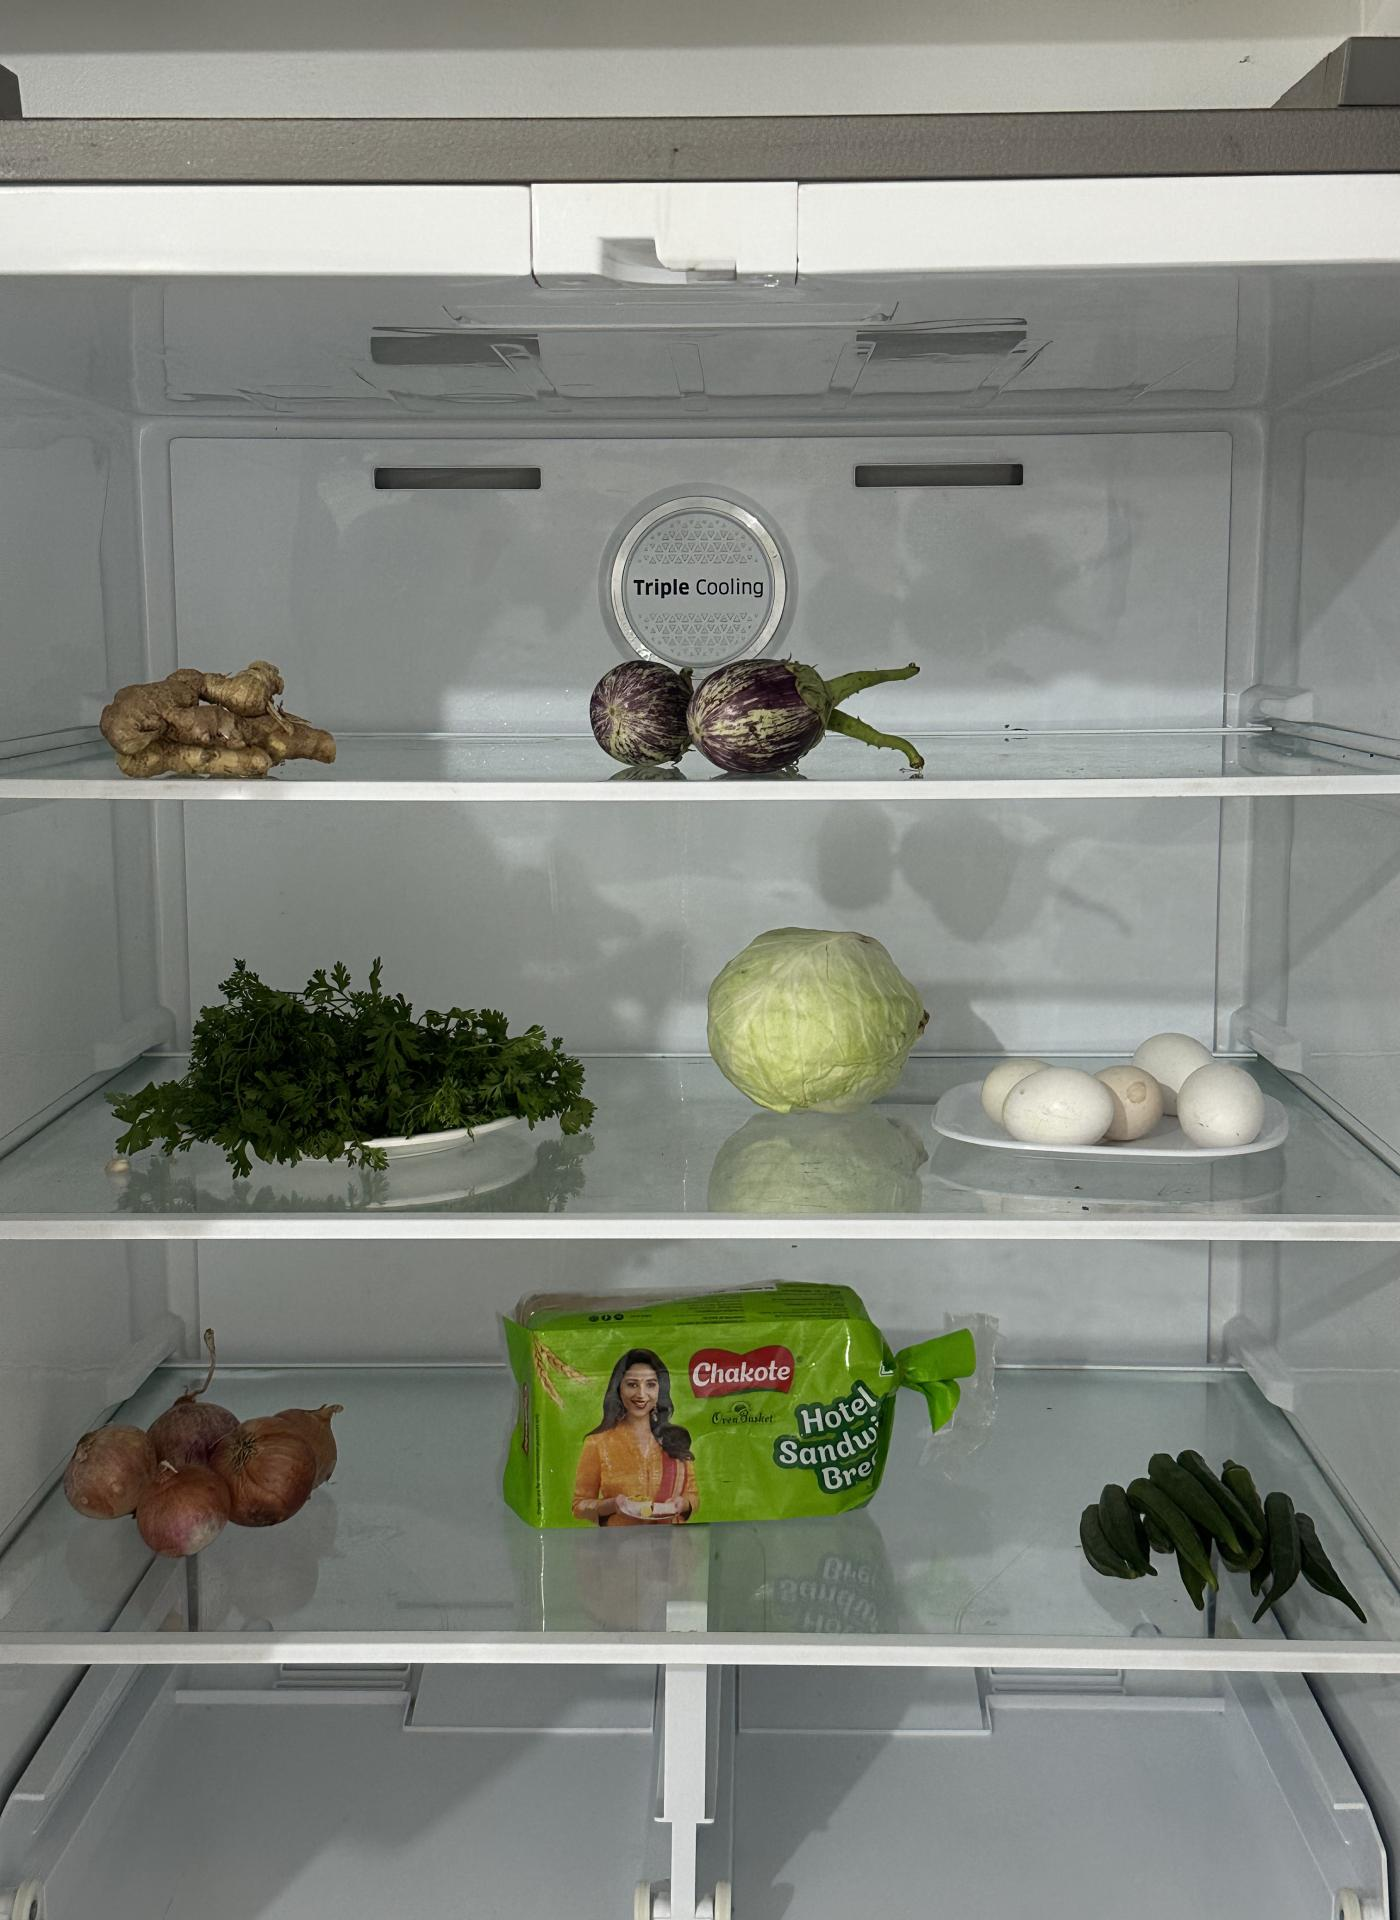bread: (495, 1279, 917, 1538)
cabbage: (707, 924, 927, 1111)
coriander: (157, 972, 589, 1154)
egg: (972, 1027, 1273, 1152)
ginger: (100, 656, 341, 783)
okra: (1068, 1437, 1358, 1631)
onion: (58, 1388, 346, 1562)
